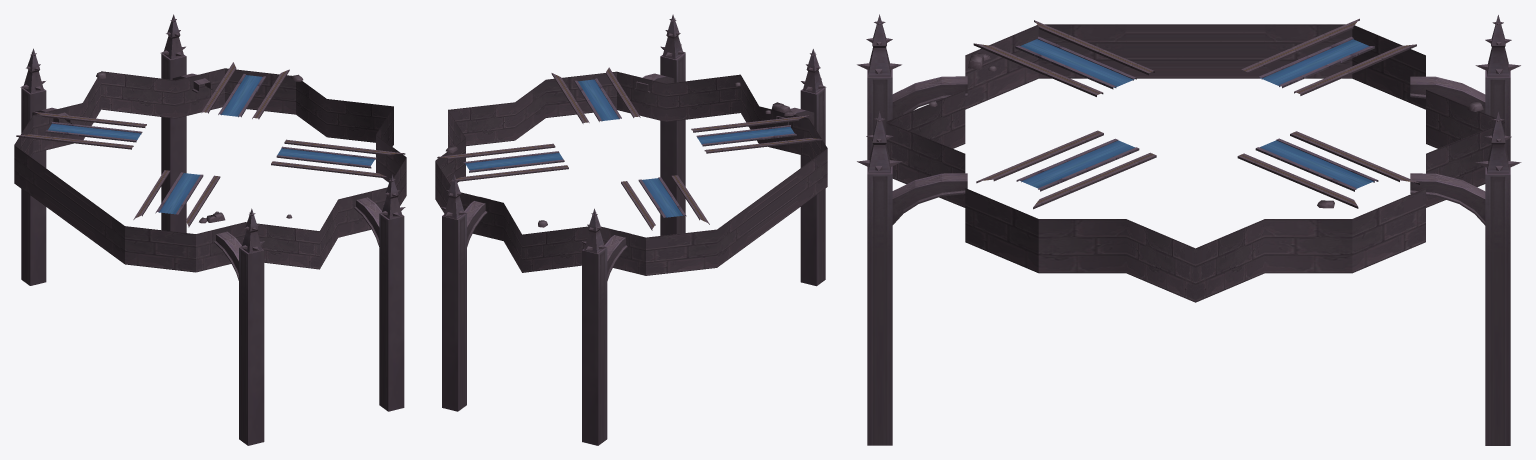
The model's file is SD_xs_taizi05.FBX.
3 views of the same model, side by side, from view 1: azimuth 30°, elevation 25°; view 2: azimuth 150°, elevation 25°; view 3: azimuth 270°, elevation 25° (orthographic). The views are drawn at different scales.
Visible parts, largest first — view 1: SD_xs_taizi05; view 2: SD_xs_taizi05; view 3: SD_xs_taizi05.
Boxes of the visible parts, box(x1,y1,x2,y2) form: SD_xs_taizi05: box(14, 14, 406, 445); SD_xs_taizi05: box(435, 14, 827, 445); SD_xs_taizi05: box(857, 14, 1521, 445).
Bounding box in the file's own units: 789 × 541 × 991.
